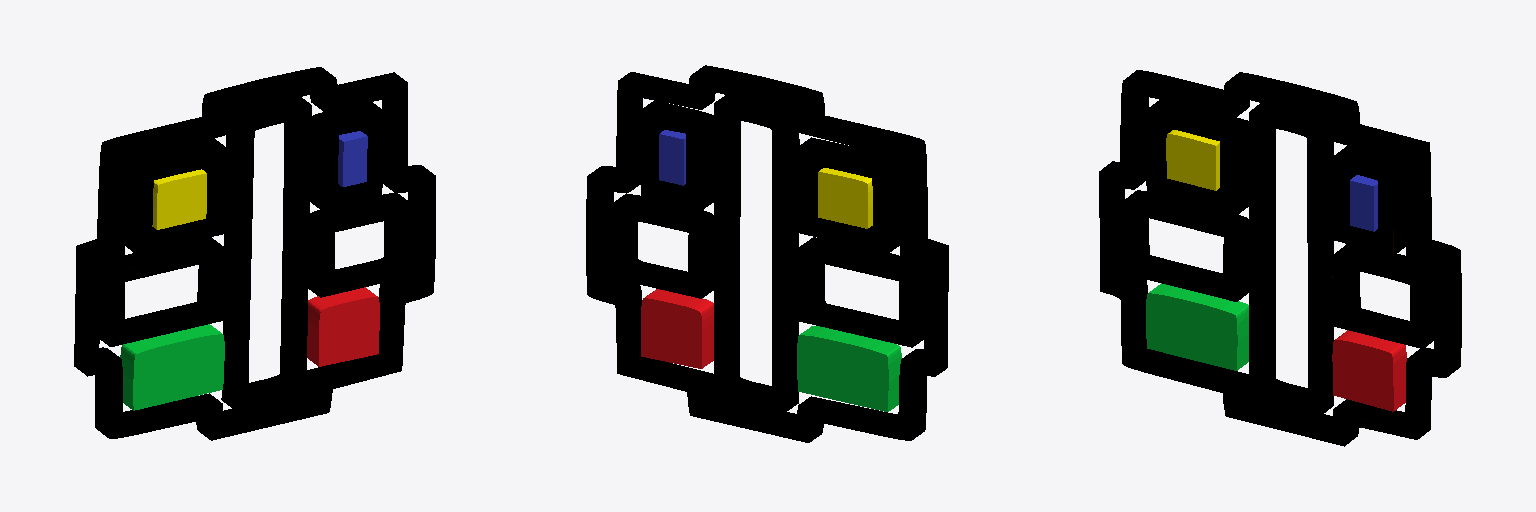
The picture shows the model from 3 angles: view 1: azimuth 30°, elevation 25°; view 2: azimuth 150°, elevation 25°; view 3: azimuth 330°, elevation 25°; orthographic projection.
Parts seen in each view (by area): view 1: Object.3, Object.9, Object.7, Object.4, Object.6, Object.5, Object.8, Object.1, Object.10, Object.2; view 2: Object.3, Object.9, Object.7, Object.4, Object.5, Object.6, Object.8, Object.1, Object.10, Object.2; view 3: Object.3, Object.9, Object.7, Object.4, Object.5, Object.6, Object.8, Object.1, Object.10, Object.2.
Part boxes in pixels (left/top/right/bottom): Object.3: left=74, top=67, right=435, bottom=440; Object.9: left=221, top=97, right=311, bottom=409; Object.7: left=100, top=237, right=225, bottom=346; Object.4: left=125, top=138, right=227, bottom=254; Object.6: left=308, top=193, right=411, bottom=297; Object.5: left=120, top=324, right=224, bottom=410; Object.8: left=310, top=102, right=383, bottom=210; Object.1: left=307, top=287, right=379, bottom=366; Object.10: left=152, top=169, right=206, bottom=229; Object.2: left=338, top=131, right=367, bottom=186; Object.3: left=586, top=65, right=948, bottom=442; Object.9: left=714, top=95, right=799, bottom=412; Object.7: left=797, top=237, right=923, bottom=347; Object.4: left=798, top=137, right=899, bottom=253; Object.5: left=797, top=326, right=901, bottom=411; Object.6: left=611, top=193, right=713, bottom=298; Object.8: left=641, top=100, right=713, bottom=210; Object.1: left=641, top=289, right=713, bottom=368; Object.10: left=818, top=168, right=872, bottom=228; Object.2: left=659, top=130, right=685, bottom=185; Object.3: left=1099, top=70, right=1461, bottom=446; Object.9: left=1248, top=103, right=1333, bottom=415; Object.7: left=1121, top=190, right=1248, bottom=301; Object.4: left=1146, top=100, right=1248, bottom=215; Object.5: left=1146, top=283, right=1248, bottom=370; Object.6: left=1332, top=244, right=1433, bottom=348; Object.8: left=1332, top=146, right=1405, bottom=255; Object.1: left=1332, top=330, right=1406, bottom=411; Object.10: left=1166, top=130, right=1219, bottom=190; Object.2: left=1350, top=175, right=1377, bottom=231.
Size of the model in its own units: 85.07 by 79.43 by 7.62.
Materials: 2 (2 with a texture image).